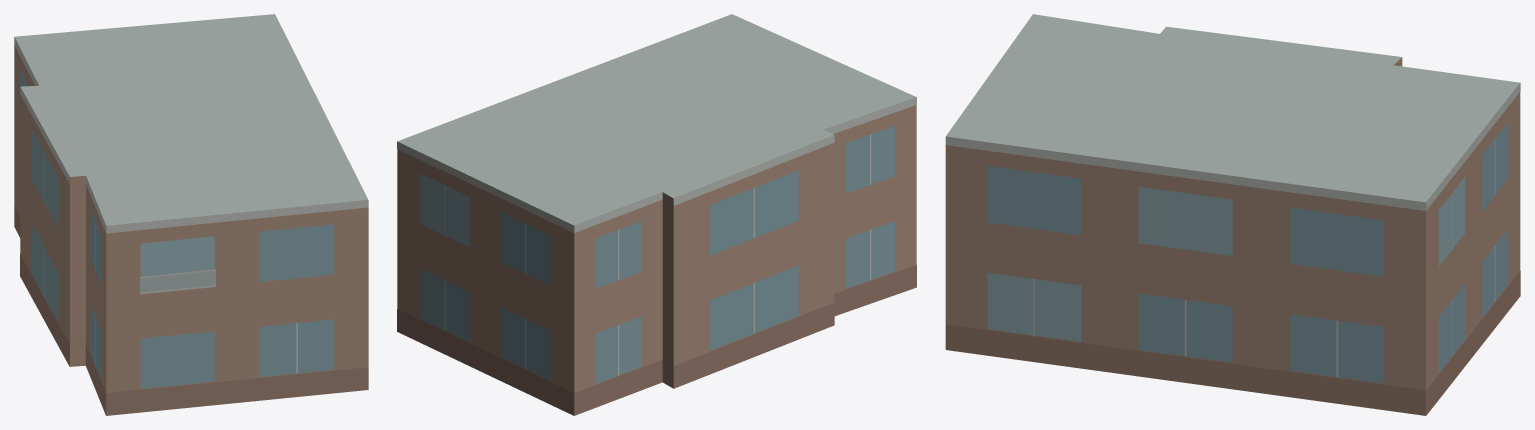
The model's file is survey-upis-32910257.glb.
The picture shows the model from 3 angles, left to right: view 1: azimuth 30°, elevation 25°; view 2: azimuth 150°, elevation 25°; view 3: azimuth 270°, elevation 25°; orthographic projection. The views are drawn at different scales.
Parts seen in each view (by area): view 1: survey-upis-32910257.tmp; view 2: survey-upis-32910257.tmp; view 3: survey-upis-32910257.tmp.
Boxes of the visible parts, box(x1,y1,x2,y2) form: survey-upis-32910257.tmp: box(14, 14, 368, 415); survey-upis-32910257.tmp: box(397, 14, 916, 415); survey-upis-32910257.tmp: box(945, 14, 1520, 415).
Bounding box in the file's own units: 11.57 × 6.1 × 14.9.
